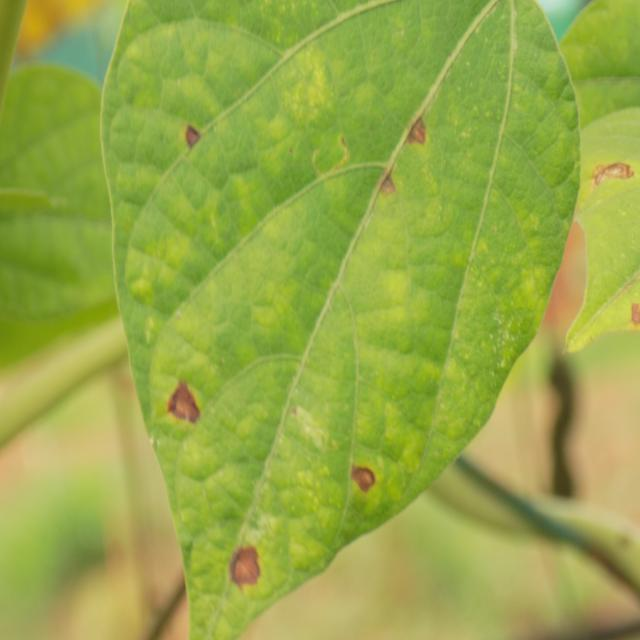Dolicos bean_cercospora leaf spot: (104, 0, 588, 640)
